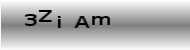3: (22, 12, 37, 26)
A: (73, 15, 90, 28)
Z: (38, 9, 52, 23)
i: (56, 15, 62, 28)
m: (91, 15, 110, 25)
